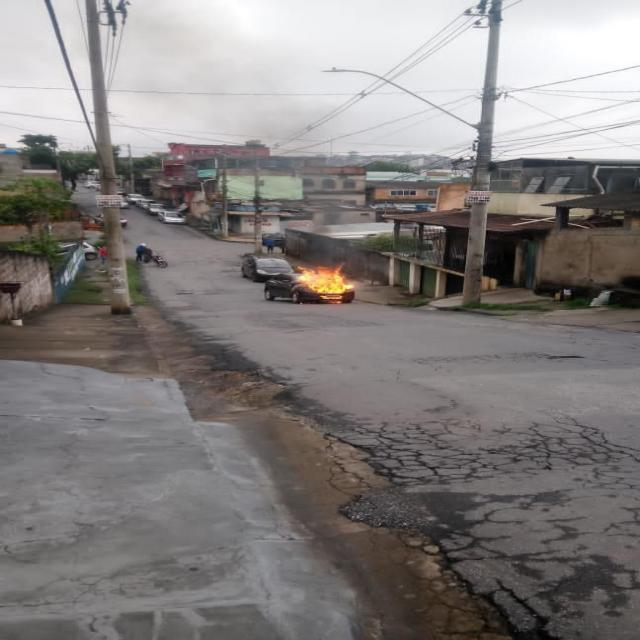Fire: (294, 268, 356, 300)
